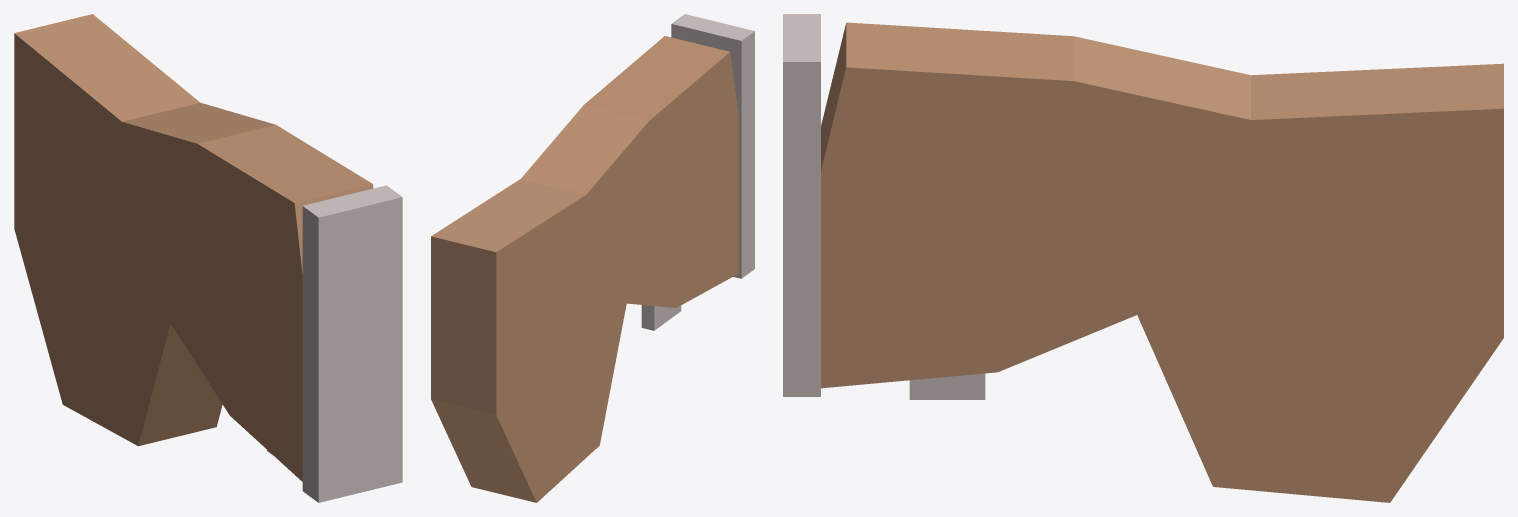
The model's file is grenade_launcher_stock.glb.
The picture shows the model from 3 angles, left to right: view 1: azimuth 30°, elevation 25°; view 2: azimuth 150°, elevation 25°; view 3: azimuth 270°, elevation 25°; orthographic projection. The views are drawn at different scales.
Visible parts, largest first — view 1: stock; view 2: stock; view 3: stock.
Boxes of the visible parts, bbox=[...] form: stock: bbox=[14, 14, 402, 502]; stock: bbox=[431, 14, 754, 502]; stock: bbox=[783, 14, 1503, 502].
Bounding box in the file's own units: 0.045 × 0.193 × 0.285.
